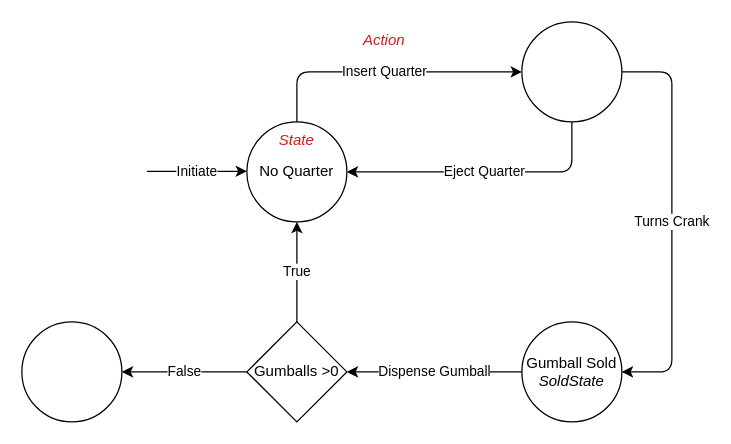
This 731x444 diagram has some shape labels left out. Each missing label, with the centre of its shape:
"Has Quarter" goes at [571,71].
"Out Of Gumballs" goes at [71,371].
